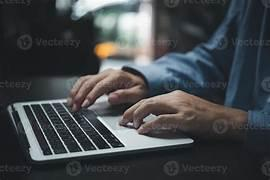keyboard: (6, 96, 194, 164)
